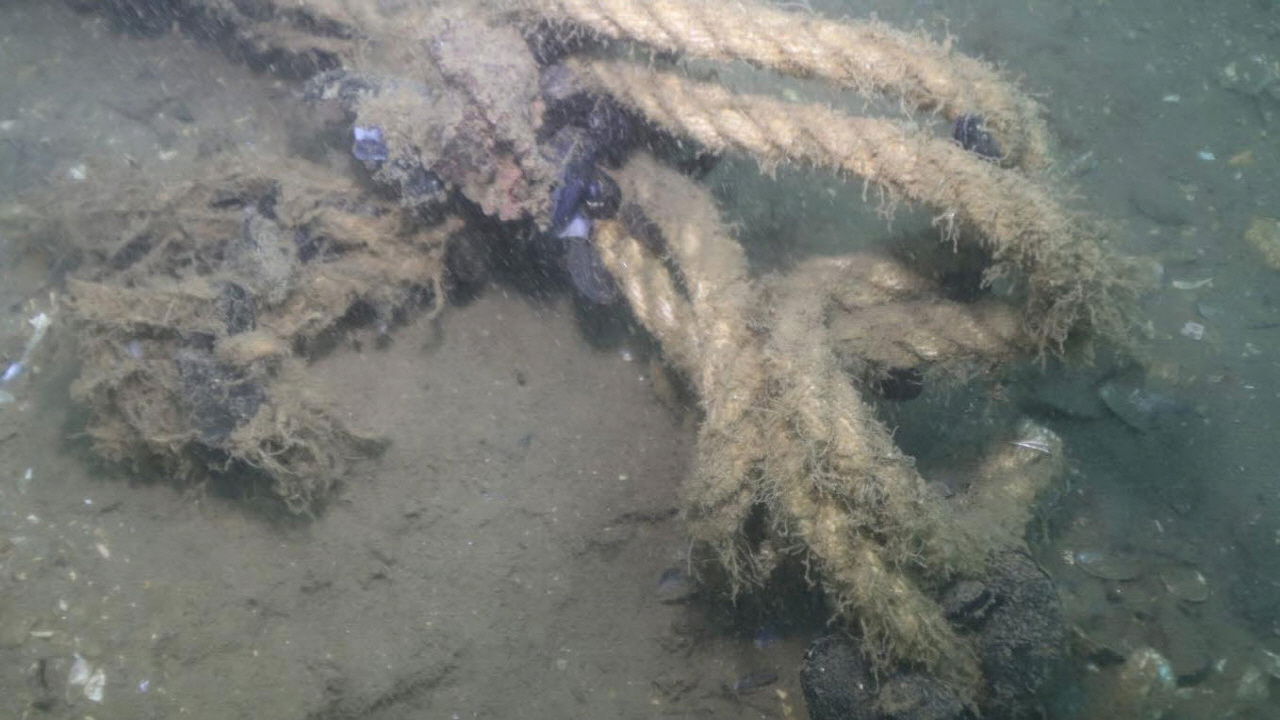bundle of ropes: (226, 0, 1091, 720)
